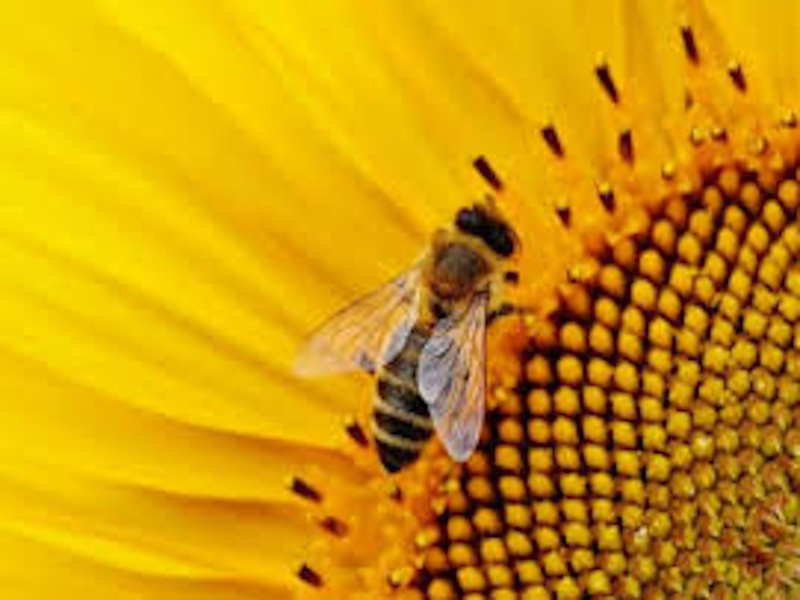abeja: (272, 195, 557, 490)
